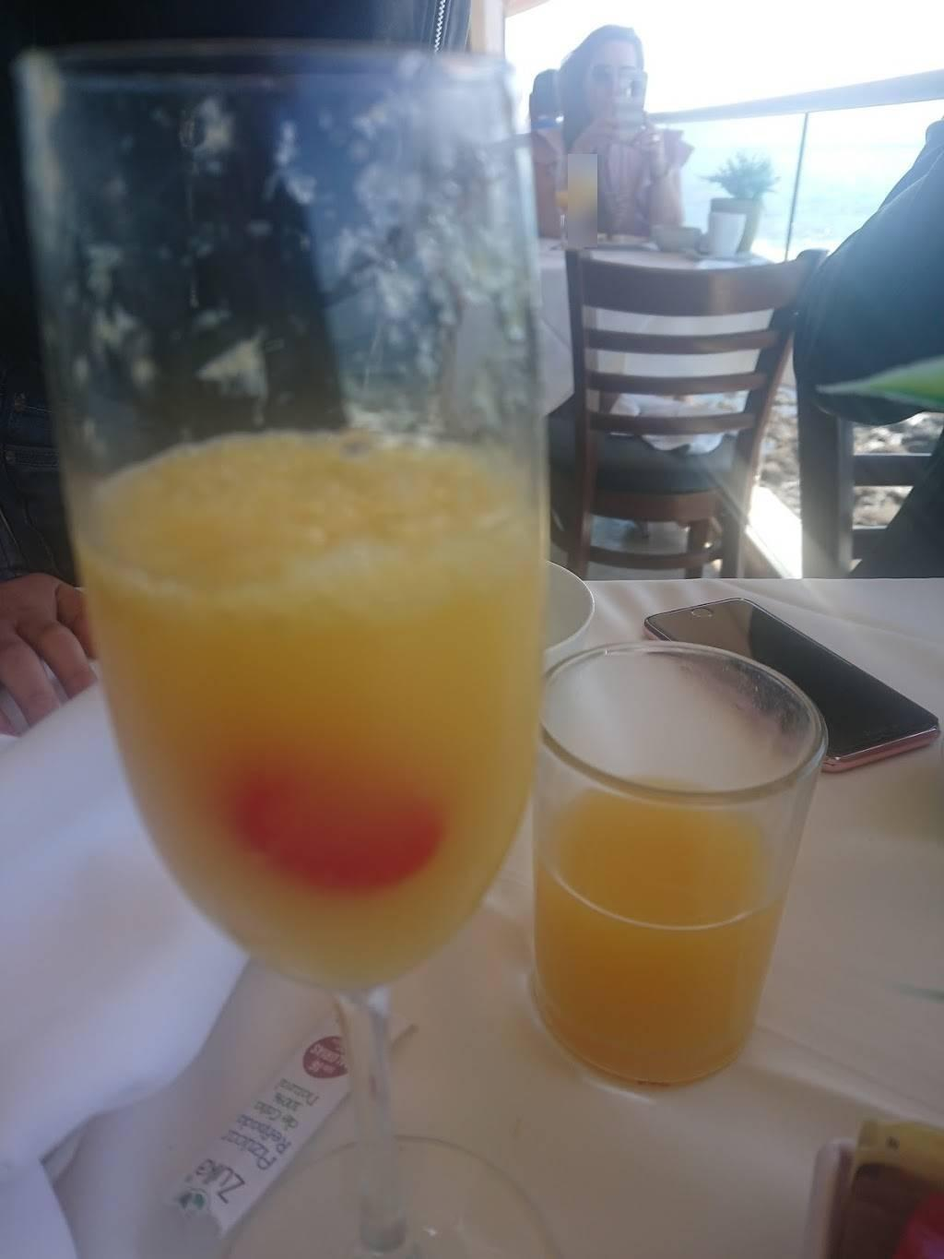glass-normal: (526, 639, 831, 1092)
glass-wine: (8, 6, 558, 1258)
